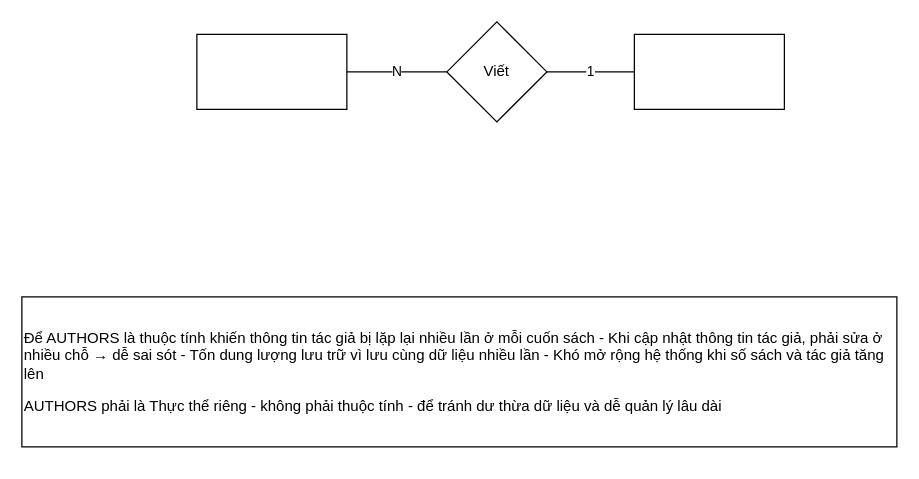
This 919x479 diagram has some shape labels left out. Each missing label, with the box of its shape:
AUTHORS: (633, 33, 784, 109)
BOOKS: (196, 33, 347, 109)
